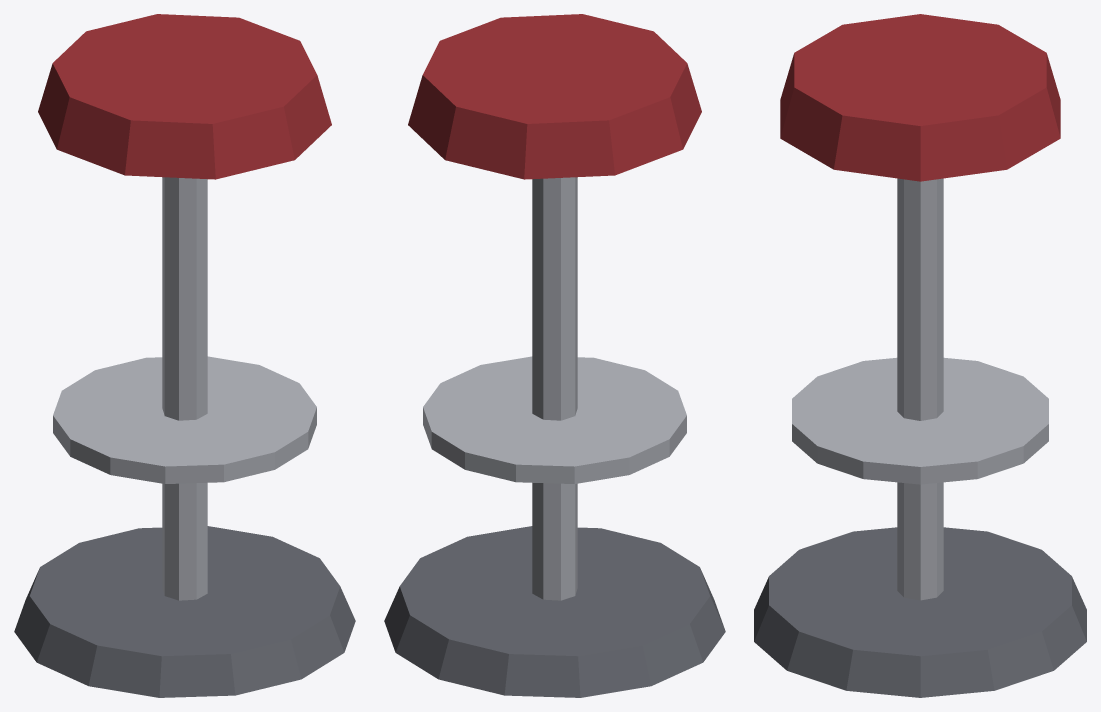
The model's file is bar_stool.obj.
The picture shows the model from 3 angles, left to right: view 1: azimuth 30°, elevation 25°; view 2: azimuth 150°, elevation 25°; view 3: azimuth 270°, elevation 25°; orthographic projection.
Parts seen in each view (by area): view 1: bar_stool; view 2: bar_stool; view 3: bar_stool.
Part boxes in pixels (box(x1,y1,x2,y2)): bar_stool: box(14, 14, 355, 697); bar_stool: box(384, 14, 725, 697); bar_stool: box(754, 14, 1086, 697).
Bounding box in the file's own units: 0.44 × 0.79 × 0.429.
